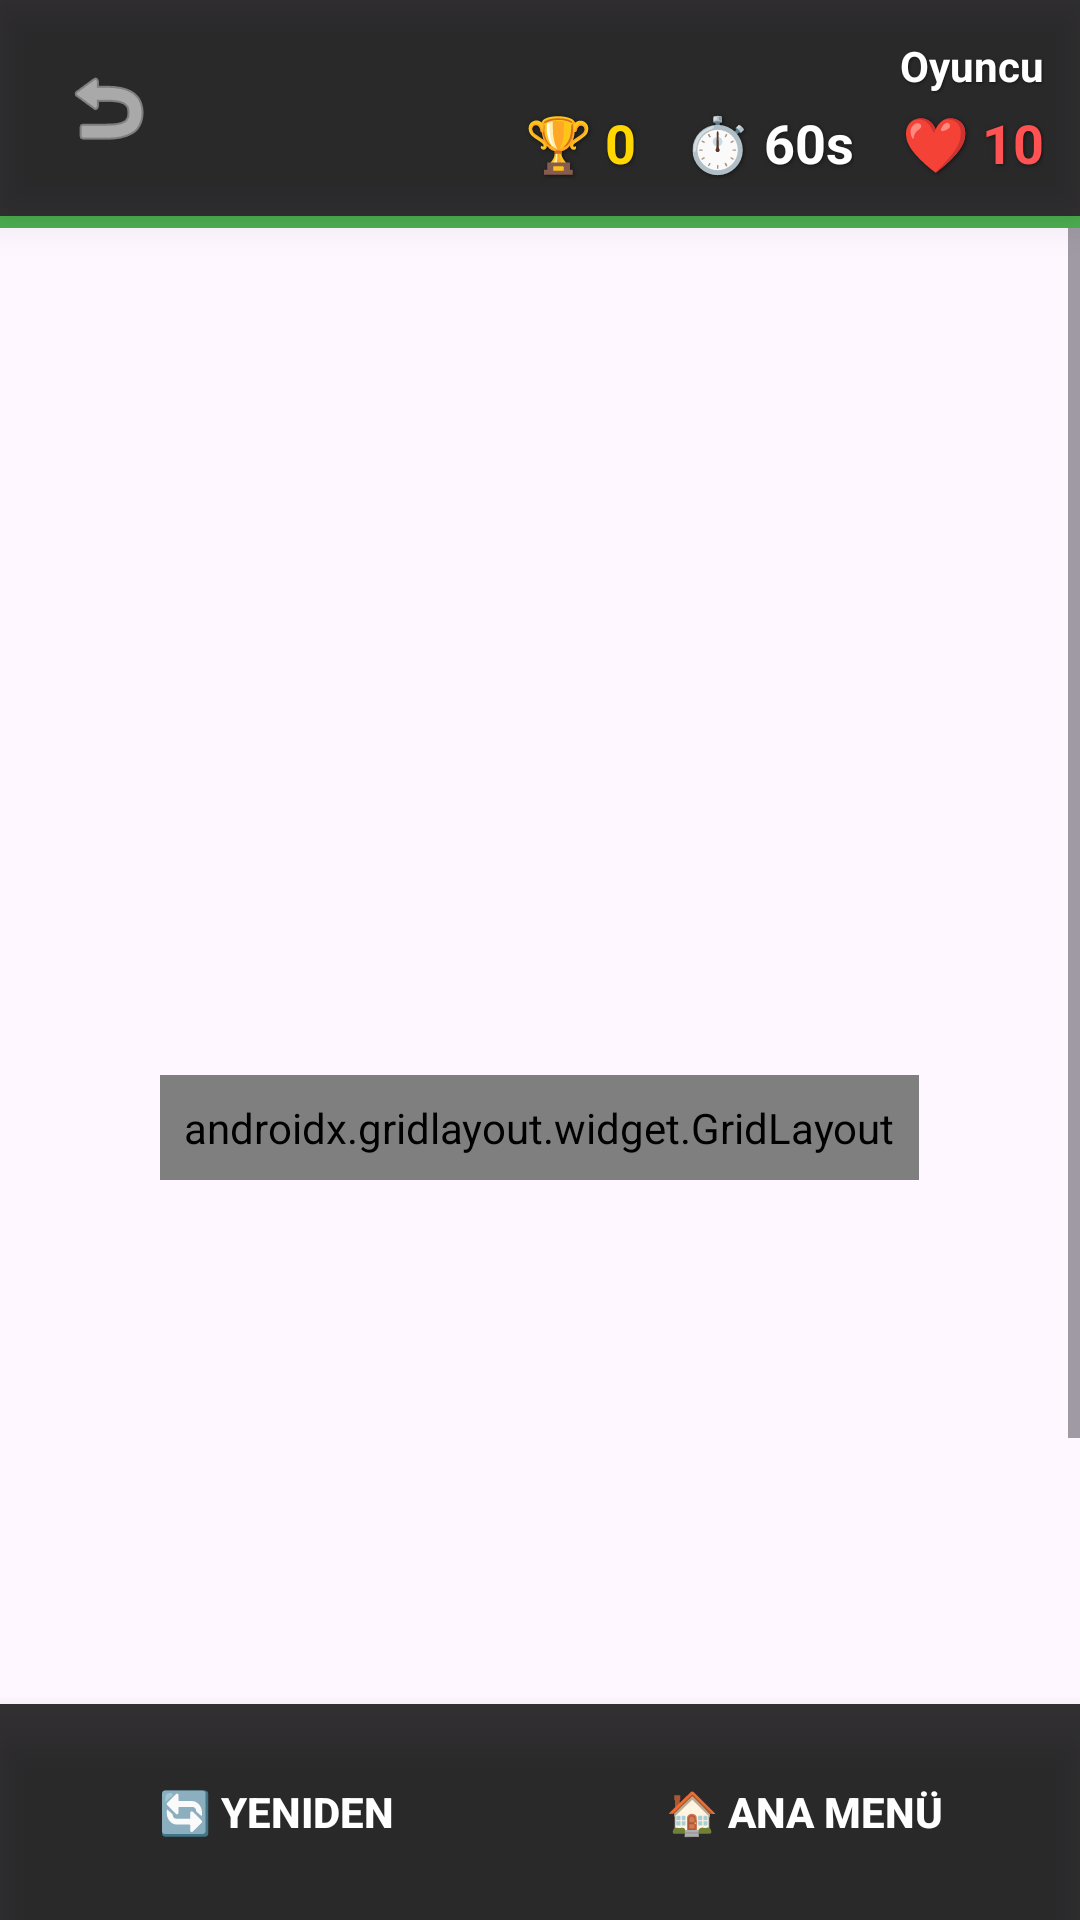

Icons on this 1080 x 1920 Android screen, each with its box as bbox(x1, y1, x2, y2):
Menüye Dön: bbox(75, 77, 144, 140)
